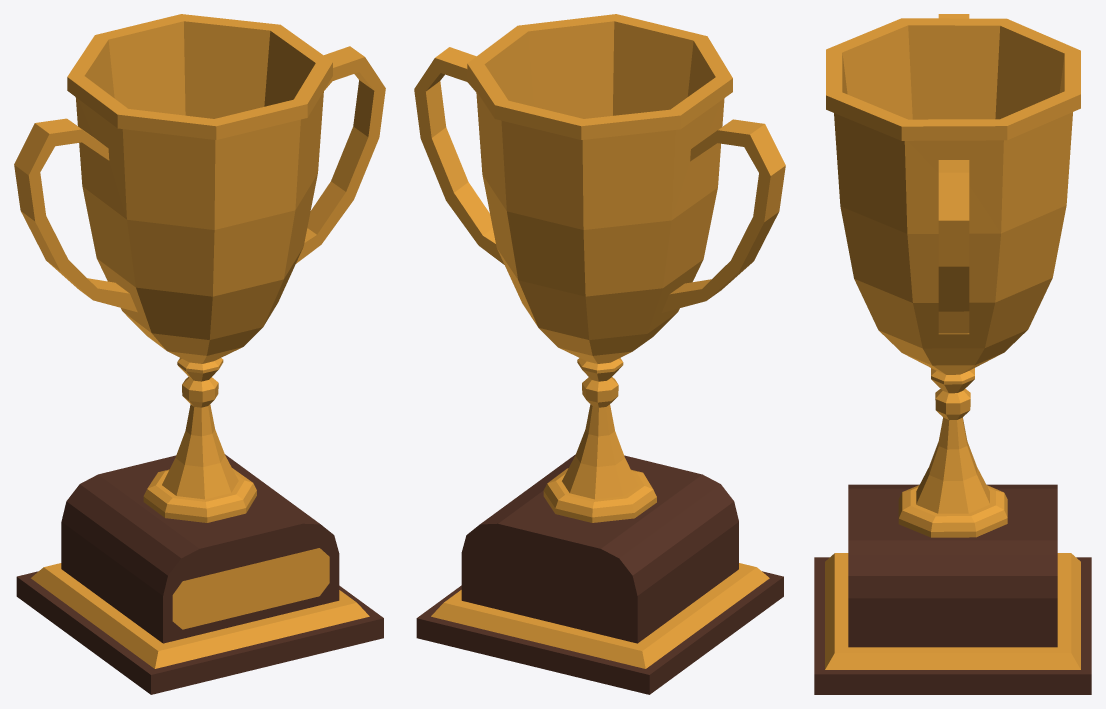
Rendered from Int_Trophy01_1.fbx.
The picture shows the model from 3 angles, left to right: view 1: azimuth 30°, elevation 25°; view 2: azimuth 150°, elevation 25°; view 3: azimuth 270°, elevation 25°; orthographic projection. The views are drawn at different scales.
Visible parts, largest first — view 1: Int_Trophy01_1; view 2: Int_Trophy01_1; view 3: Int_Trophy01_1.
Part boxes in pixels (box(x1,y1,x2,y2)): Int_Trophy01_1: box(14, 14, 385, 694); Int_Trophy01_1: box(414, 14, 785, 694); Int_Trophy01_1: box(814, 14, 1091, 694).
Size of what is drawn, in the model's own units: 34.15 by 22.27 by 50.
